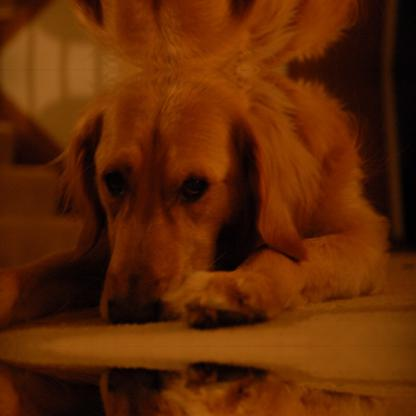Dog: (0, 69, 392, 330), (0, 0, 393, 70), (0, 361, 393, 415)
